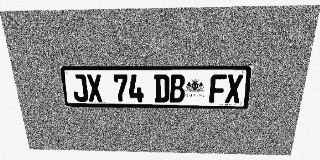4: (128, 74, 144, 102)
7: (112, 74, 129, 102)
B: (170, 74, 185, 103)
D: (154, 74, 169, 102)
F: (209, 74, 227, 103)
J: (71, 74, 89, 102)
X: (225, 74, 243, 103), (86, 74, 103, 102)
